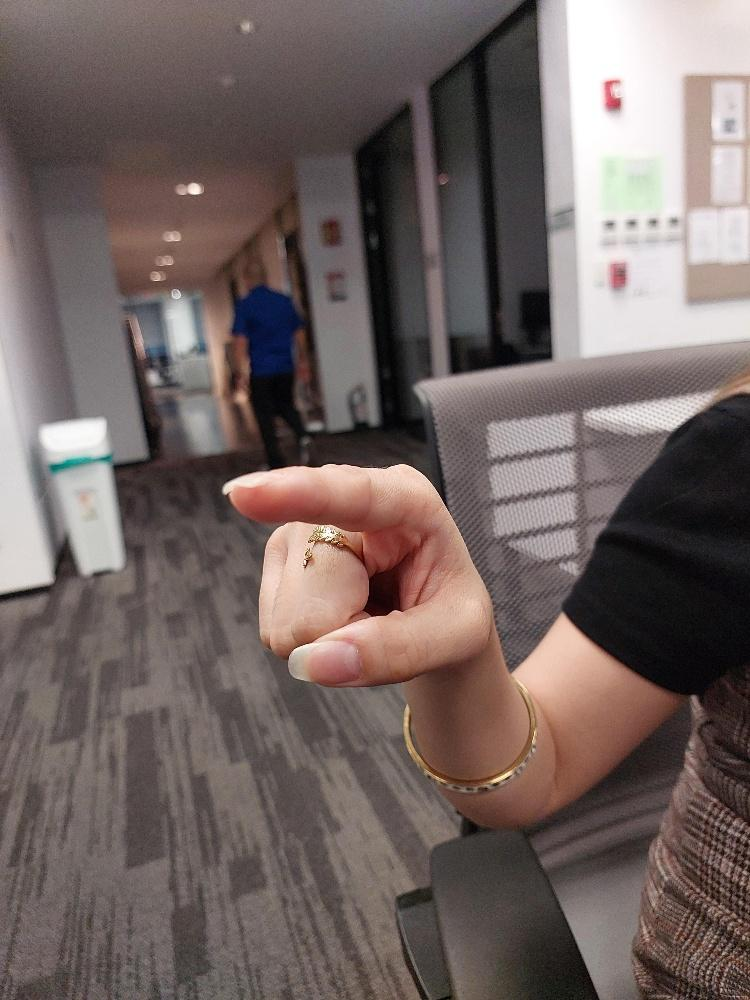z: (218, 458, 499, 690)
